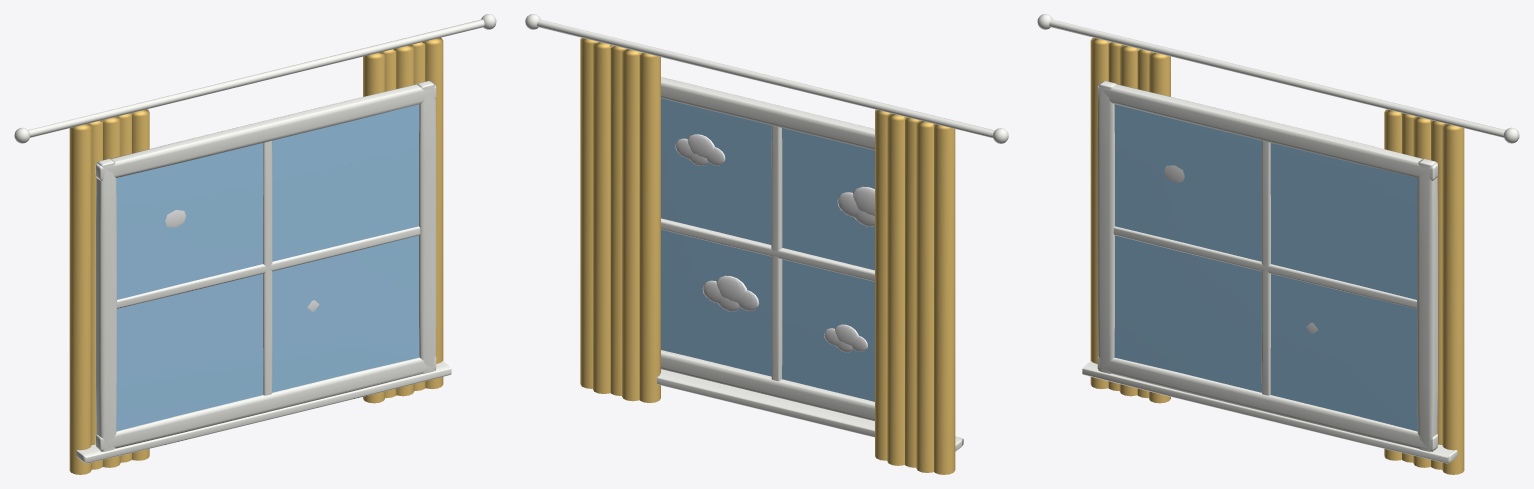
The model's file is TanksWindow.obj.
3 renders of one model, left to right at view 1: azimuth 30°, elevation 25°; view 2: azimuth 150°, elevation 25°; view 3: azimuth 330°, elevation 25°, orthographic.
Visible parts, largest first — view 1: Glass, Frame, Curtain; view 2: Curtain, Glass, Frame, Cloud; view 3: Glass, Frame, Curtain.
Boxes of the visible parts, x1,y1,x2,y2 form: Glass: (116, 104, 419, 431); Frame: (14, 14, 496, 463); Curtain: (69, 37, 443, 474); Curtain: (580, 38, 955, 474); Glass: (661, 98, 874, 401); Frame: (525, 14, 1008, 451); Cloud: (675, 134, 874, 352); Glass: (1114, 104, 1417, 431); Frame: (1037, 14, 1519, 463); Curtain: (1090, 37, 1464, 474).
Bounding box in the file's own units: 62.8 × 44.4 × 4.75.
